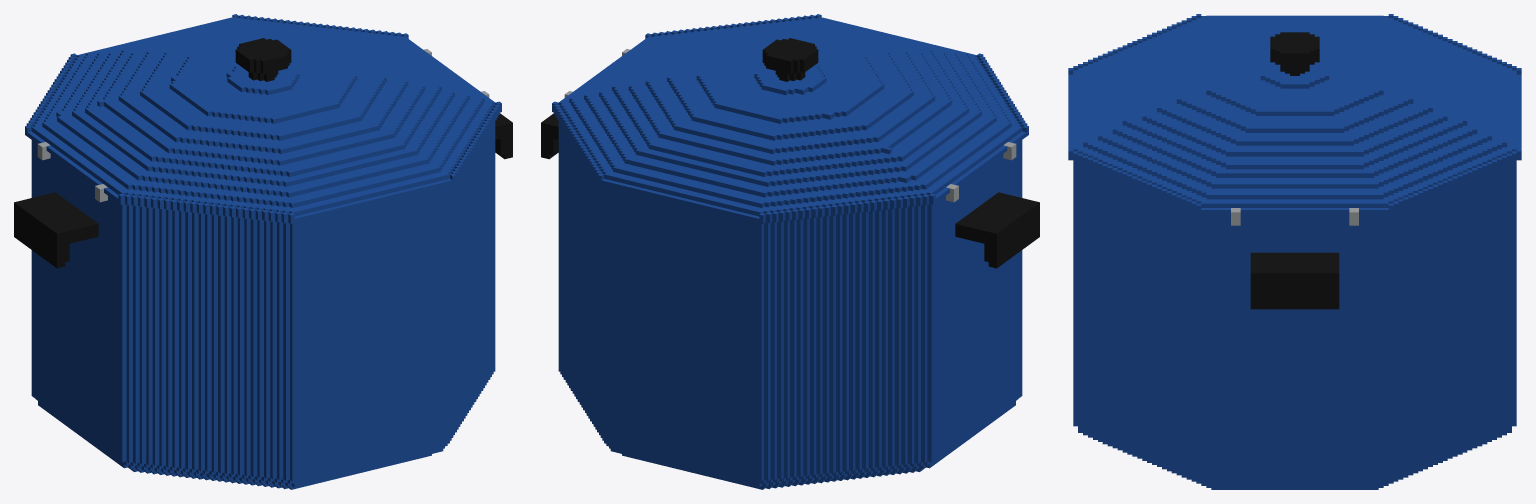
File: pot_canning.glb
The picture shows the model from 3 angles, left to right: view 1: azimuth 30°, elevation 25°; view 2: azimuth 150°, elevation 25°; view 3: azimuth 270°, elevation 25°; orthographic projection. The views are drawn at different scales.
Parts seen in each view (by area): view 1: pot_canning:compound; view 2: pot_canning:compound; view 3: pot_canning:compound.
Part boxes in pixels (x1,y1,x2,y2): pot_canning:compound: (14, 14, 512, 489); pot_canning:compound: (541, 14, 1039, 489); pot_canning:compound: (1068, 14, 1521, 489).
Size of the model in its own units: 0.44 by 0.324 by 0.368.
